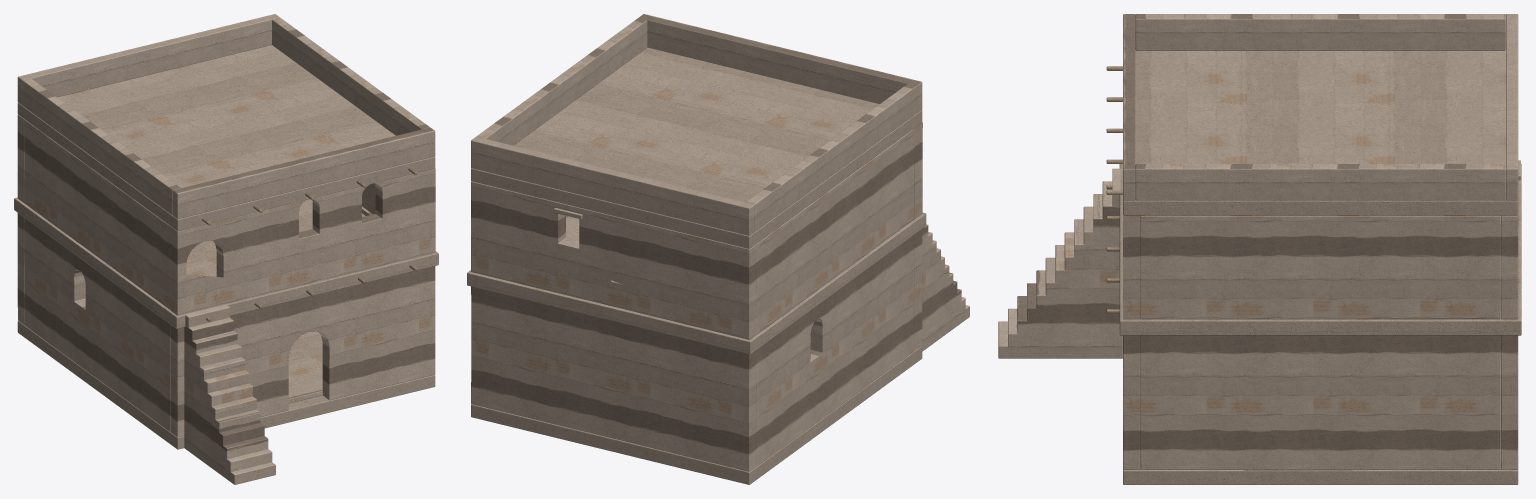
The model's file is house_27.glb.
3 renders of one model, left to right at view 1: azimuth 30°, elevation 25°; view 2: azimuth 150°, elevation 25°; view 3: azimuth 270°, elevation 25°, orthographic. The views are drawn at different scales.
Parts seen in each view (by area): view 1: house; view 2: house; view 3: house.
Part boxes in pixels (left/top/right/bottom): house: left=14, top=14, right=438, bottom=484; house: left=467, top=14, right=969, bottom=484; house: left=998, top=14, right=1521, bottom=484.
Size of the model in its own units: 9.11 by 8.5 by 12.74.
3 materials, 3 textured.
